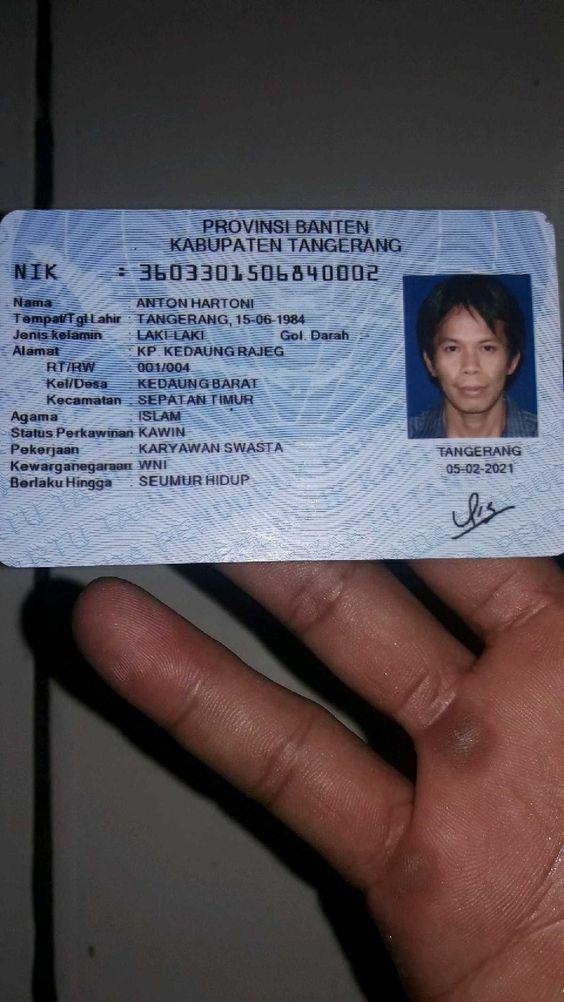ID-card: (2, 209, 560, 553)
